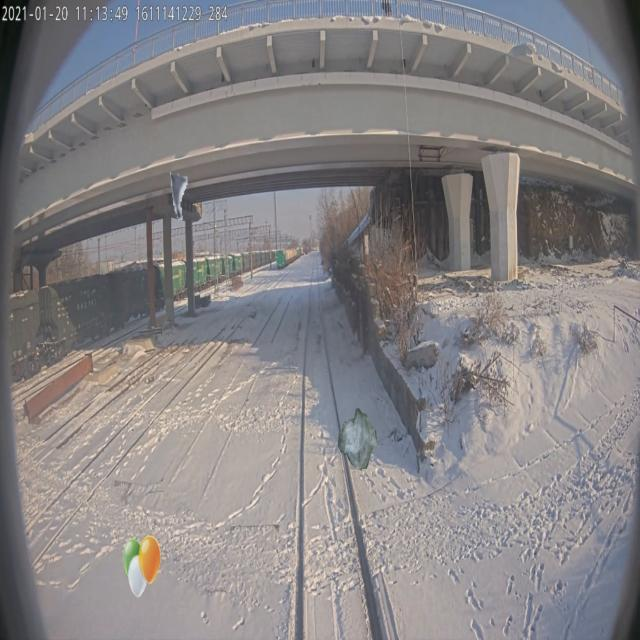balloon: (122, 535, 161, 599)
plastic bag: (338, 406, 378, 471), (169, 158, 187, 222)
